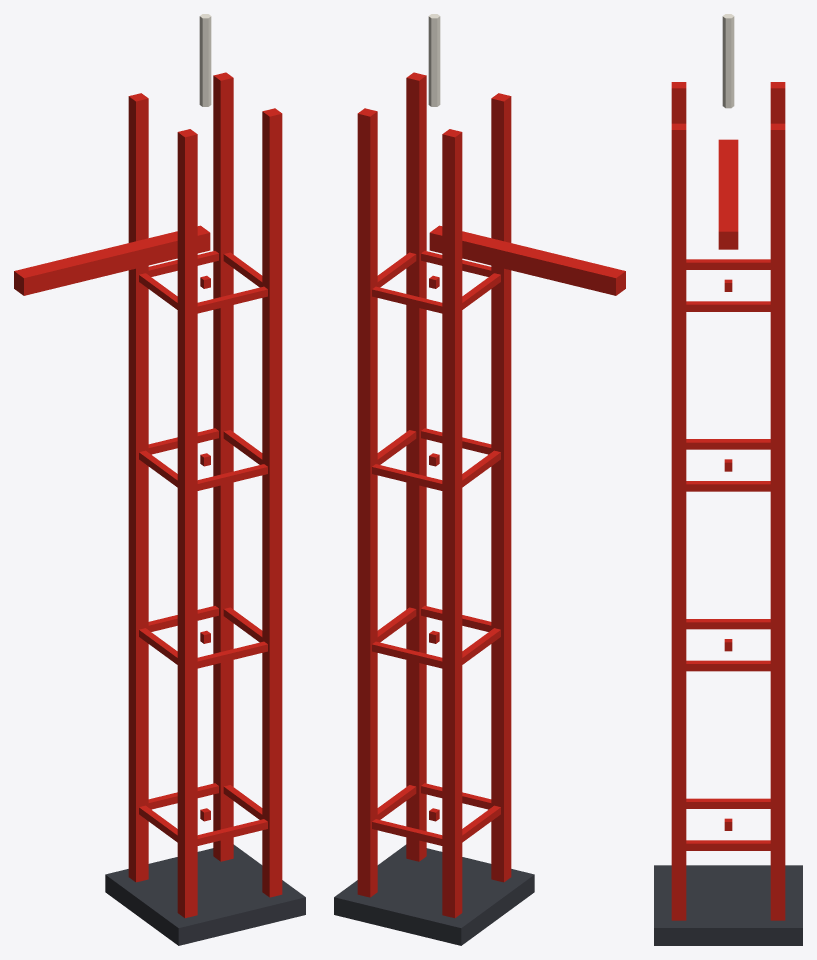
The model's file is lowpoly-launch_tower.glb.
3 renders of one model, left to right at view 1: azimuth 30°, elevation 25°; view 2: azimuth 150°, elevation 25°; view 3: azimuth 270°, elevation 25°, orthographic.
Visible parts, largest first — view 1: launch_tower; view 2: launch_tower; view 3: launch_tower.
Boxes of the visible parts, x1=… form: launch_tower: x1=14, y1=14, x2=305, y2=945; launch_tower: x1=334, y1=14, x2=625, y2=945; launch_tower: x1=654, y1=14, x2=802, y2=945.
Size of the model in its own units: 2.95 by 10 by 1.5.
